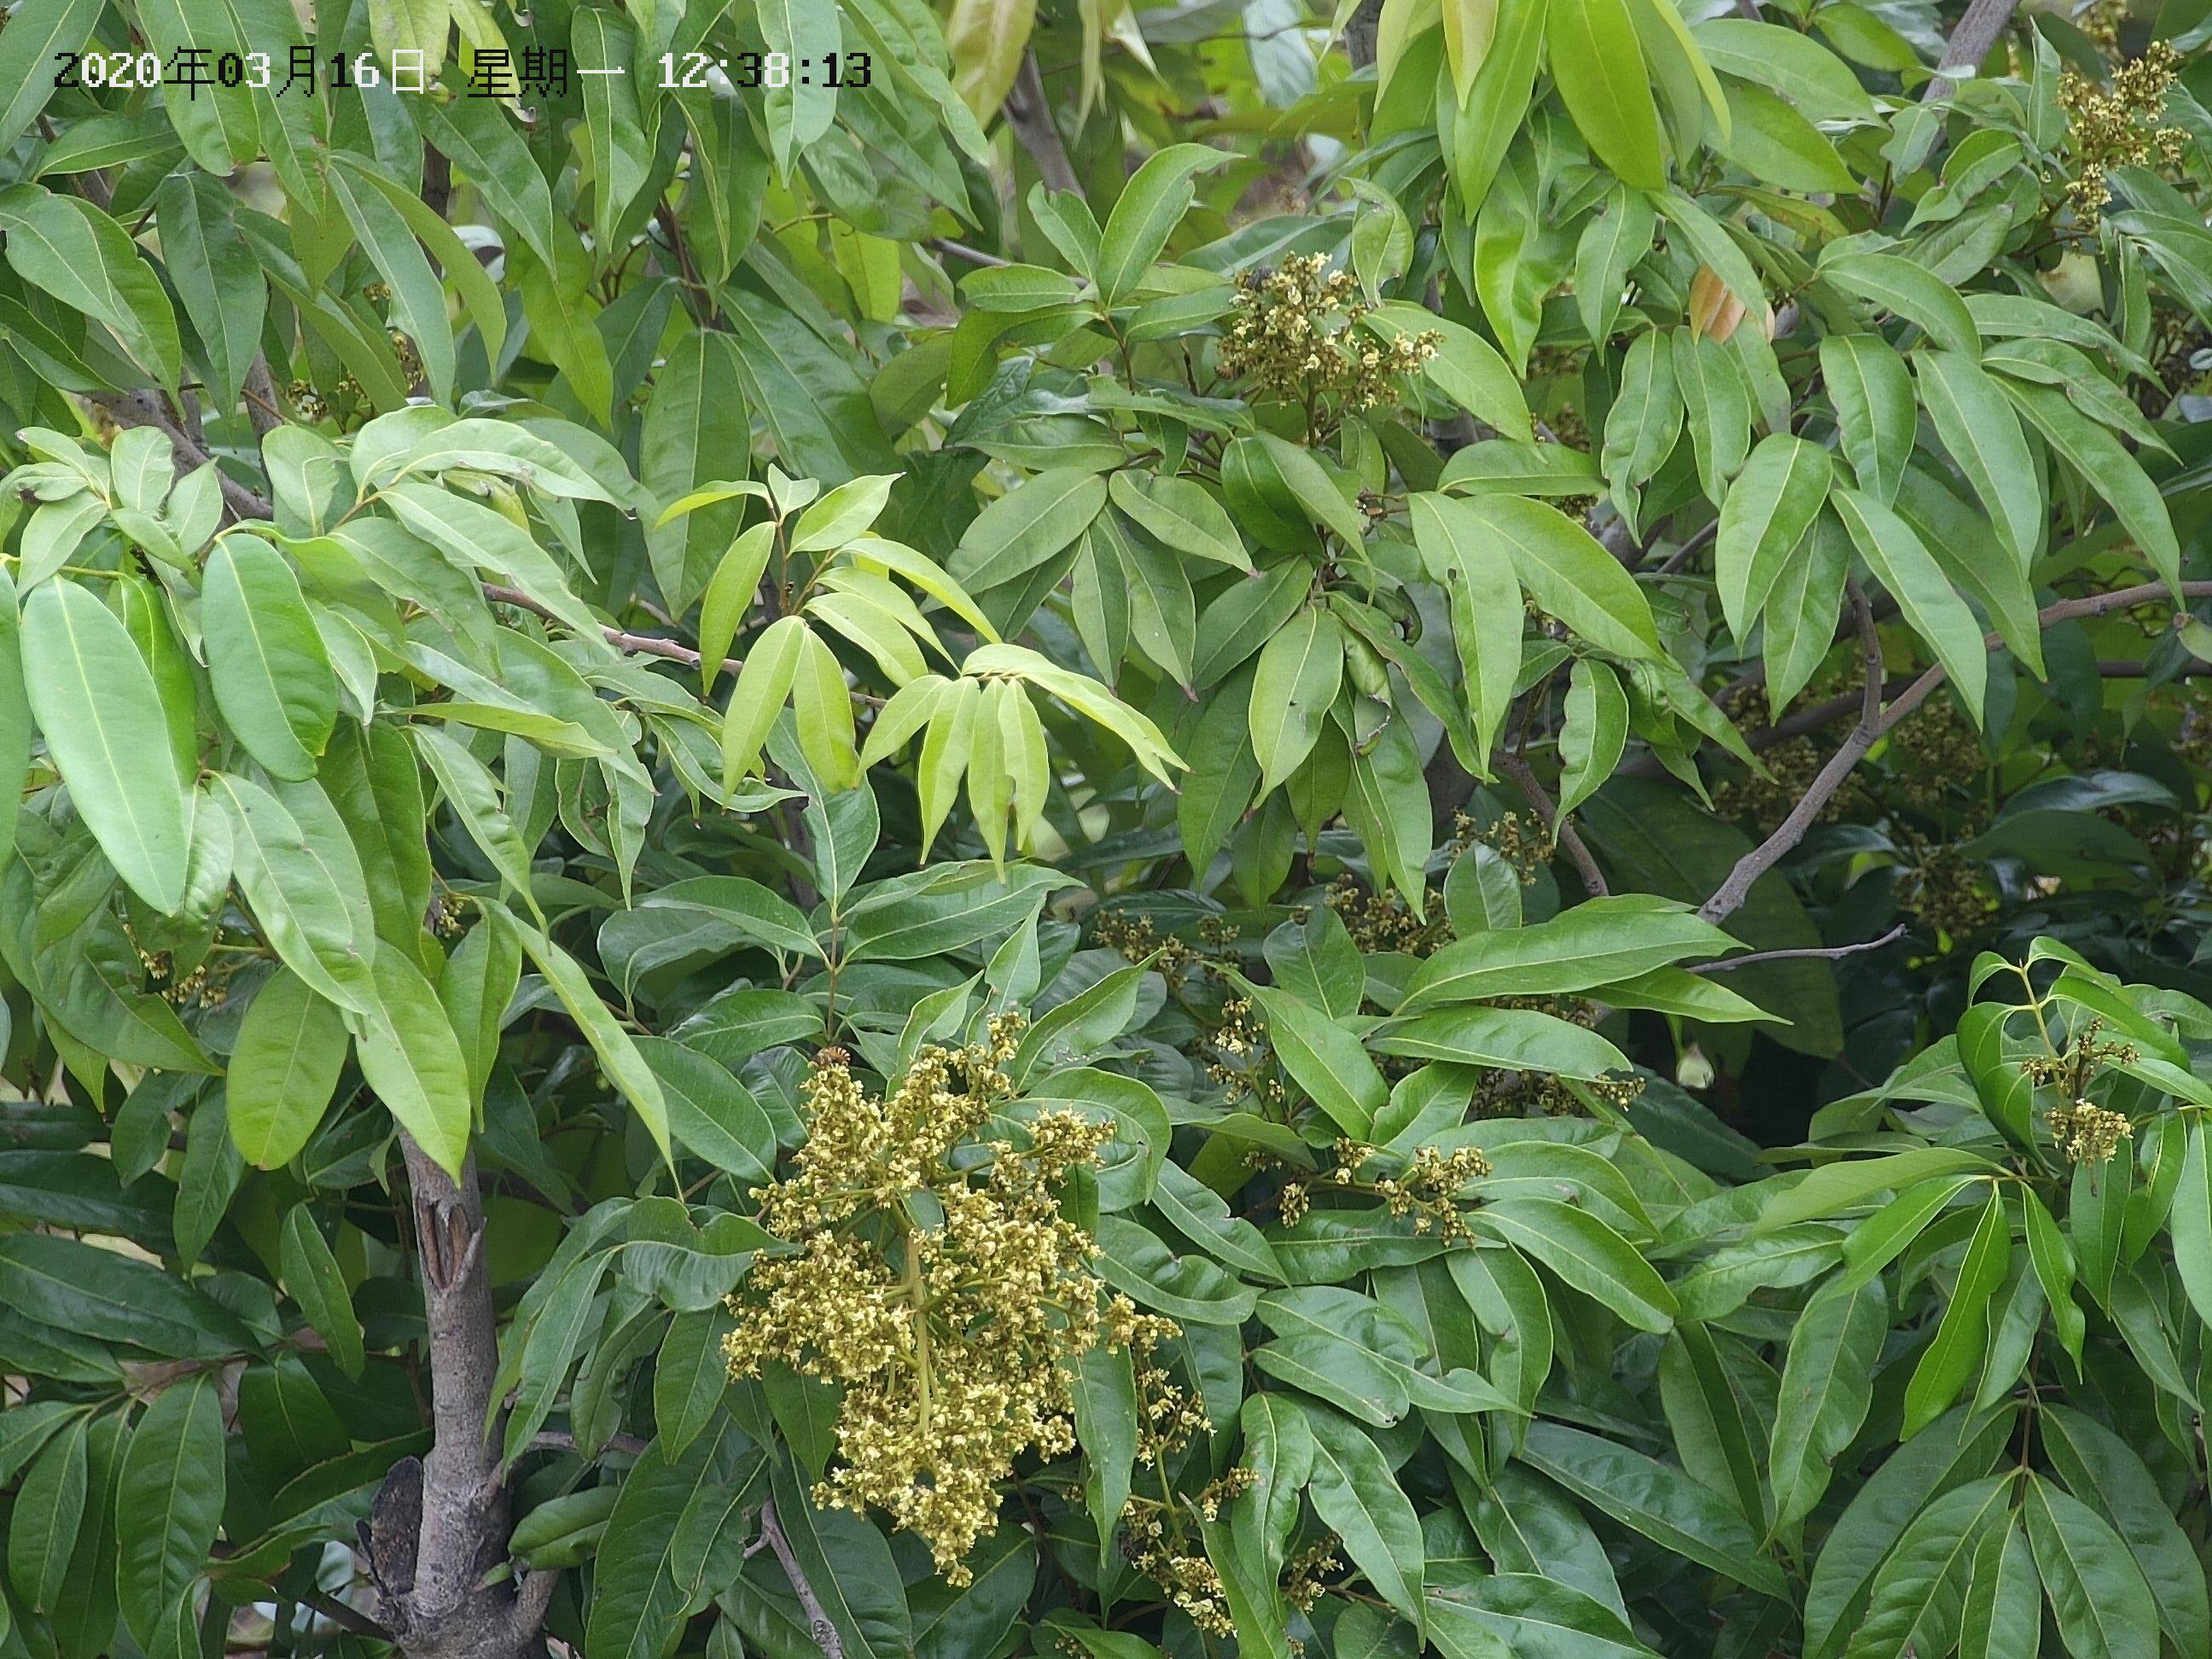开花始期: (1204, 249, 1449, 420), (1089, 896, 1277, 1080), (1270, 1126, 1500, 1260), (2045, 33, 2198, 227), (2022, 1011, 2148, 1166), (1451, 802, 1559, 889)
开花盛期: (712, 1030, 1122, 1588), (1090, 1281, 1238, 1650)
